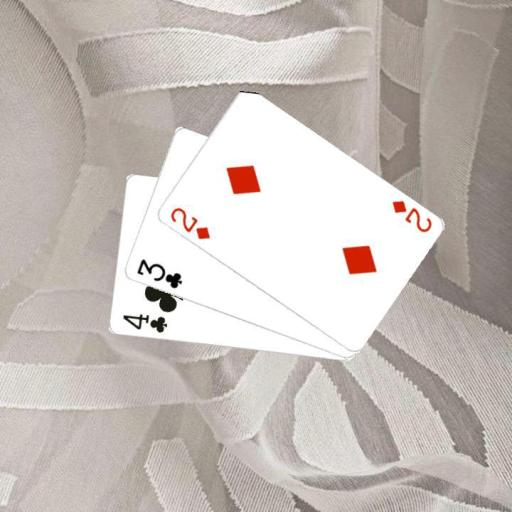2D: (388, 197, 433, 235), (167, 204, 212, 241)
3C: (133, 256, 183, 290)
4C: (119, 311, 169, 334)
